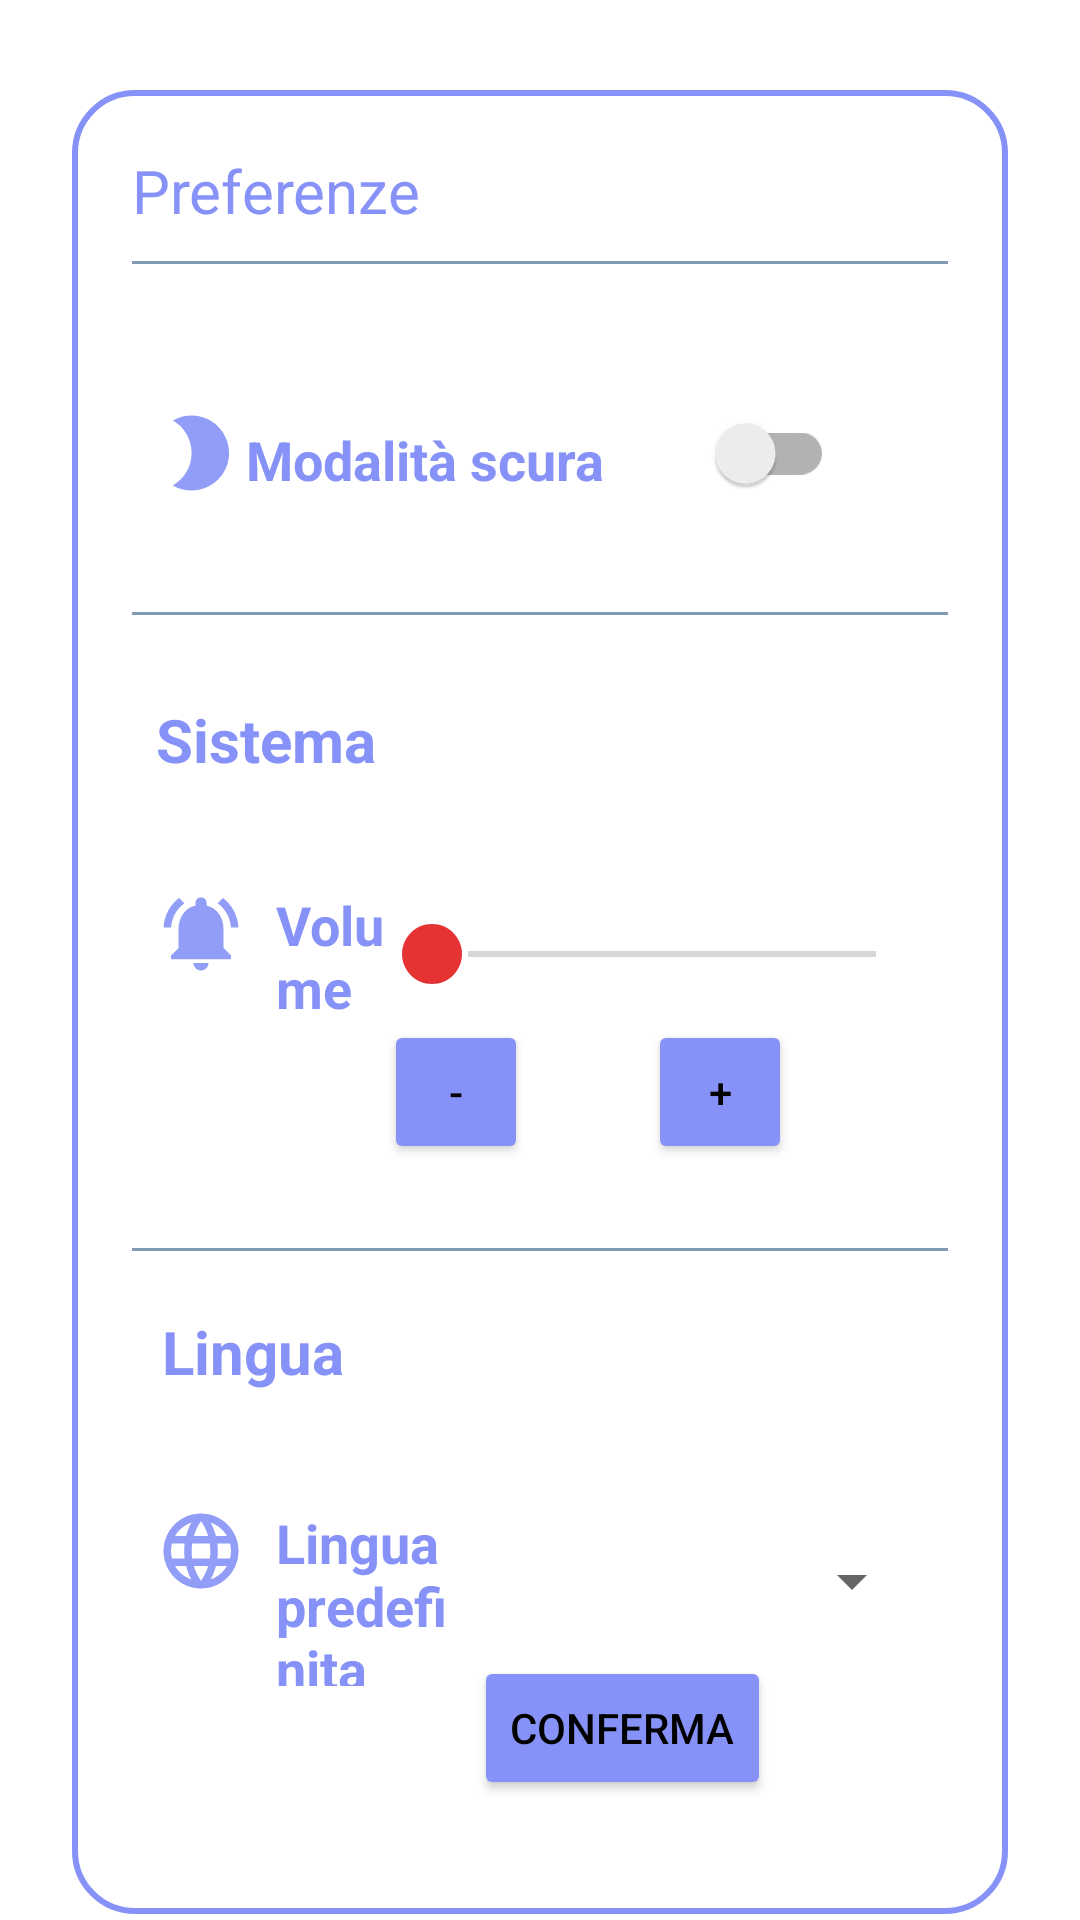

Icons on this 1080*1920 Android screen, each with its box as {"left": x1, "top": y1, "right": x2, "bottom": y2}:
language: {"left": 163, "top": 1513, "right": 239, "bottom": 1589}
mode night: {"left": 173, "top": 415, "right": 229, "bottom": 491}
notifications: {"left": 163, "top": 897, "right": 239, "bottom": 971}
